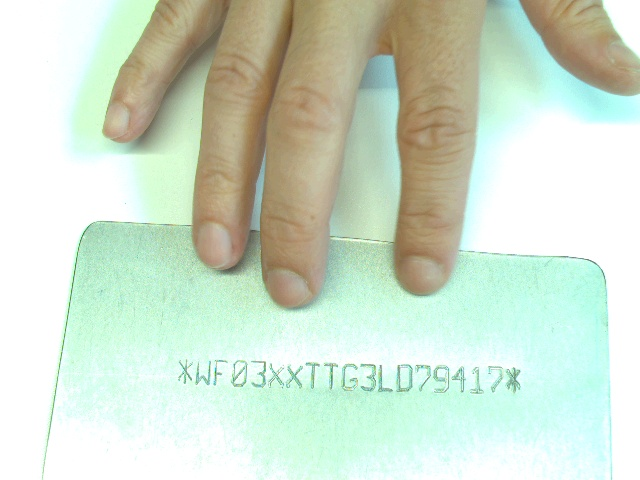0: (230, 359, 250, 388)
1: (470, 366, 486, 395)
3: (360, 362, 378, 394), (249, 359, 268, 388)
4: (451, 365, 469, 395)
7: (486, 364, 505, 395), (415, 363, 433, 394)
9: (433, 364, 451, 395)
d: (395, 361, 415, 394)
f: (213, 359, 228, 387)
g: (341, 362, 359, 392)
l: (378, 361, 395, 395)
t: (322, 361, 340, 392), (303, 360, 321, 390)
w: (193, 359, 212, 386)
x: (267, 361, 286, 390), (286, 361, 303, 389)
